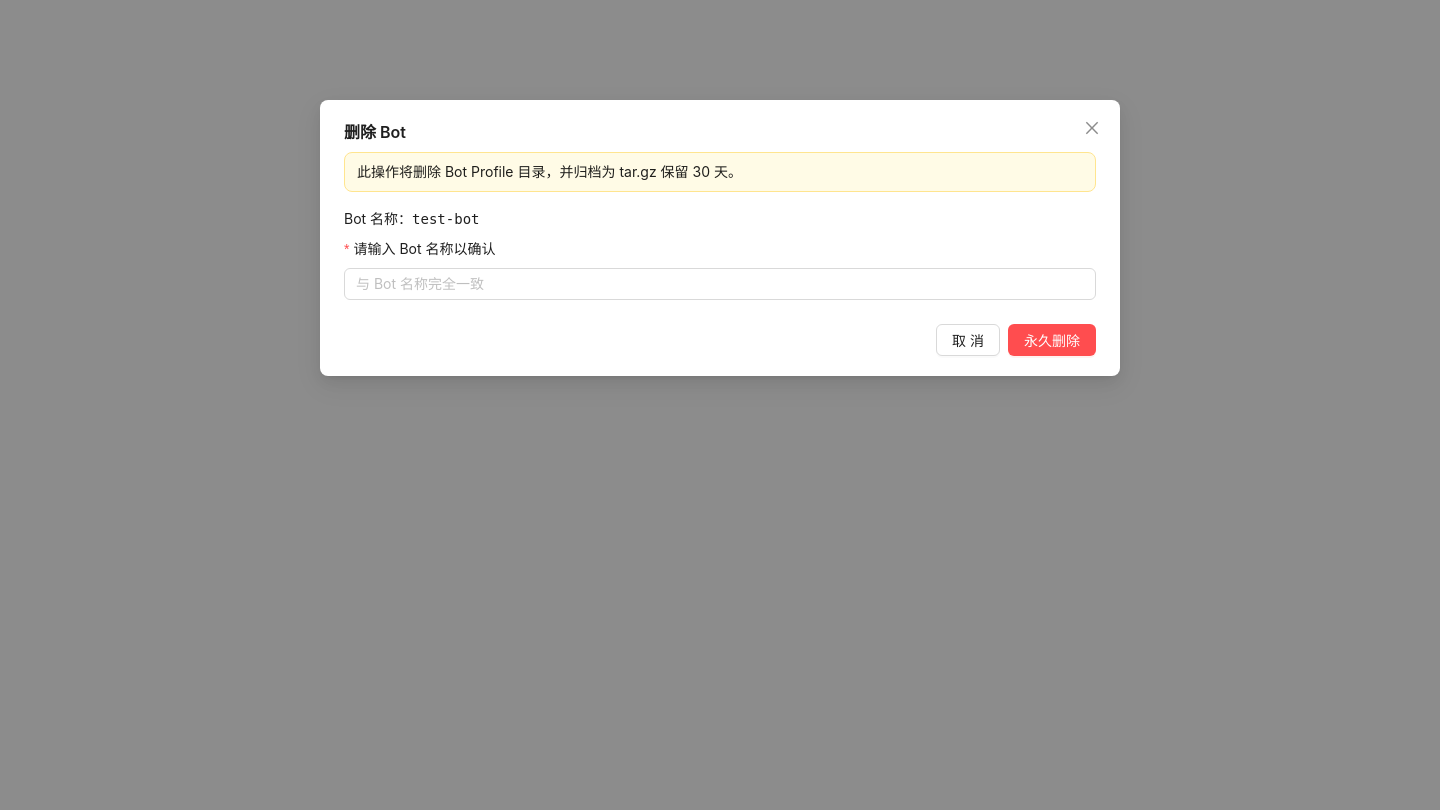
Test case: <DeleteBotModal> › W5 bonus test_submission_error_uses_extractErrorMessage: shows response.data.detail
Check: the text "删除 Bot" is shown, box [344, 122, 406, 142]
Step 1. Type "test-bot" into the field with test id "delete-bot-confirm-input" → (712, 284), box [356, 273, 1068, 295]
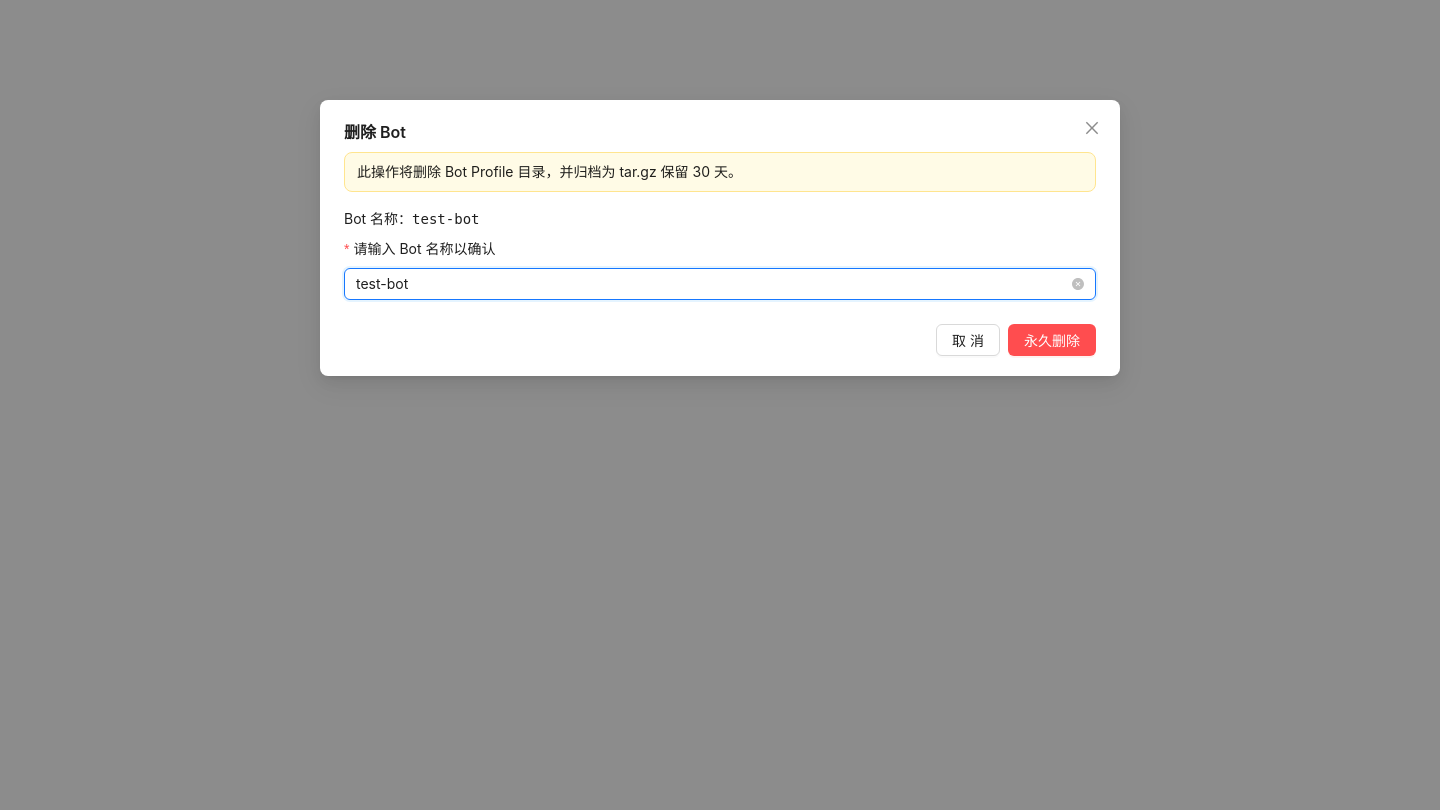
Step 2. Click the button "永久删除" → (1052, 340), box [1008, 324, 1096, 356]
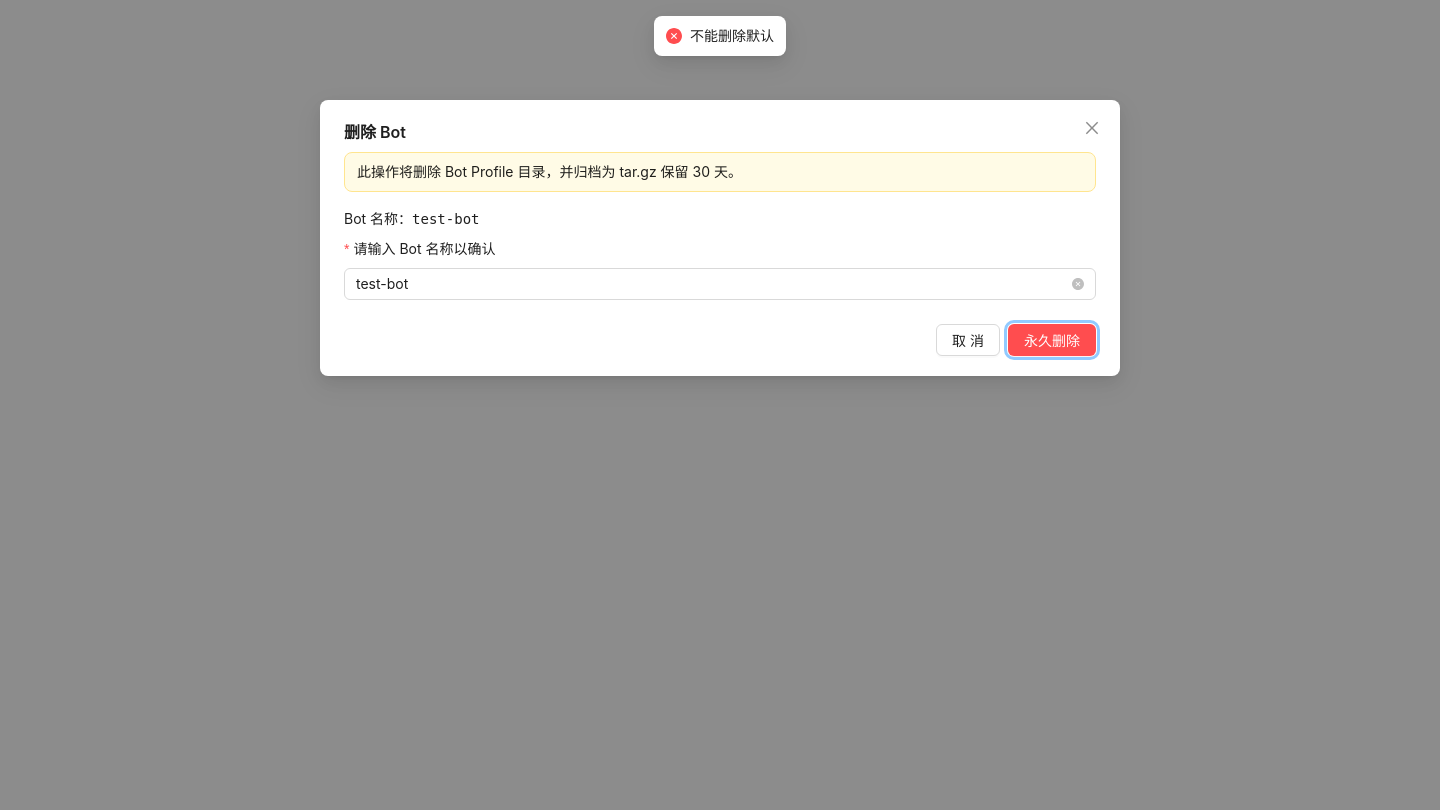
Check: the text "不能删除默认" is shown, box [690, 25, 774, 47]
